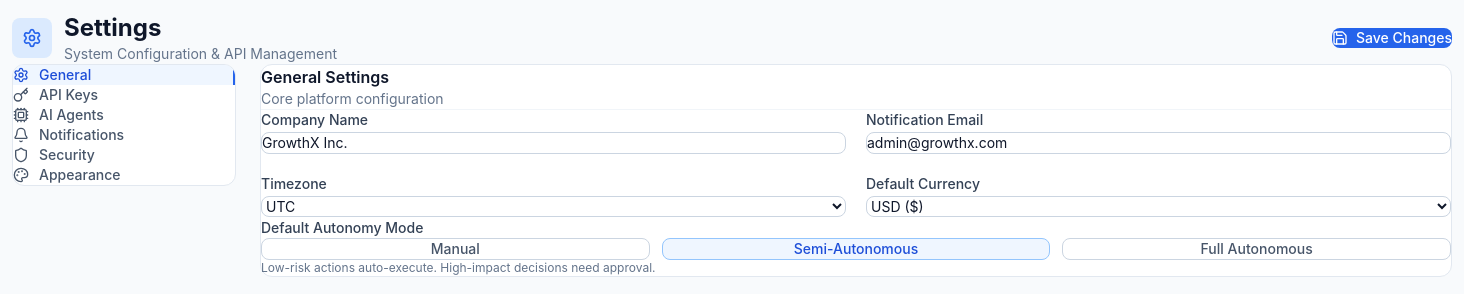
Test: Settings › switches to Security tab and renders security settings
Click the button "Security": (124, 155) x1=13 y1=145 x2=235 y2=165
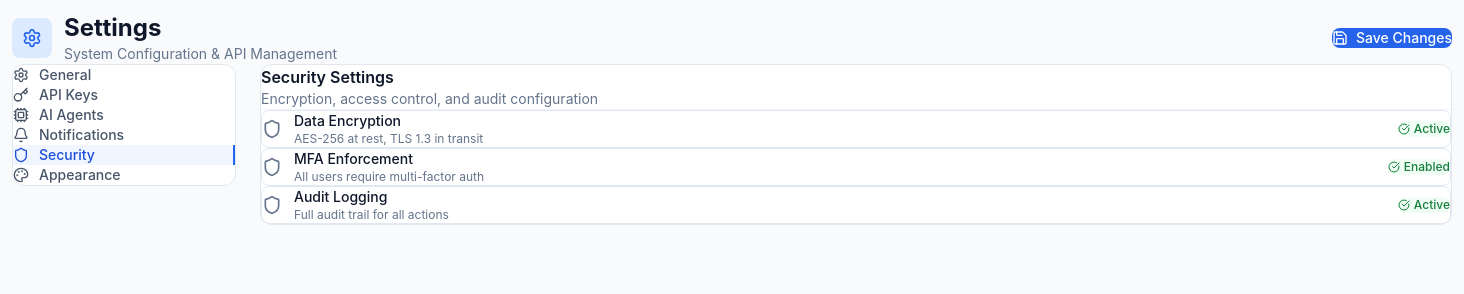
Expected: the heading "Security Settings" is shown, x1=261 y1=67 x2=394 y2=87
Expected: the text "Data Encryption" is shown, x1=294 y1=112 x2=401 y2=129
Expected: the text "MFA Enforcement" is shown, x1=294 y1=150 x2=413 y2=167
